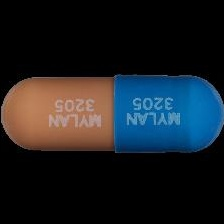61786-561: (0, 0, 224, 224)
